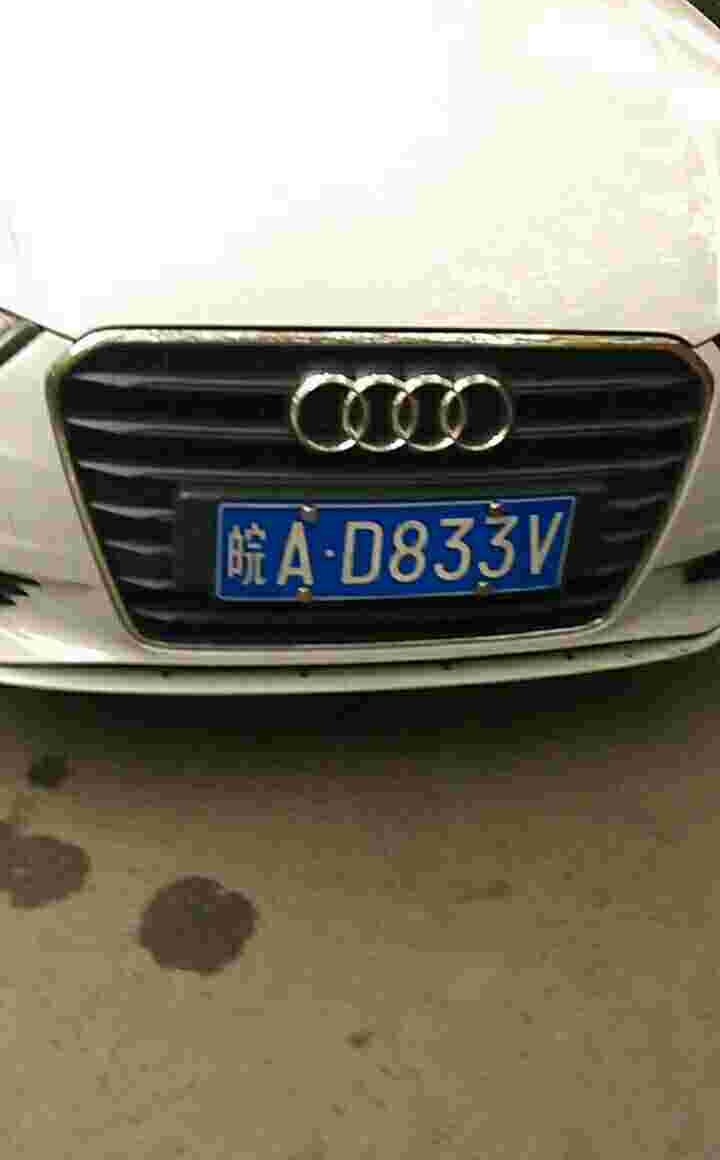license_plate: (211, 498, 583, 611)
